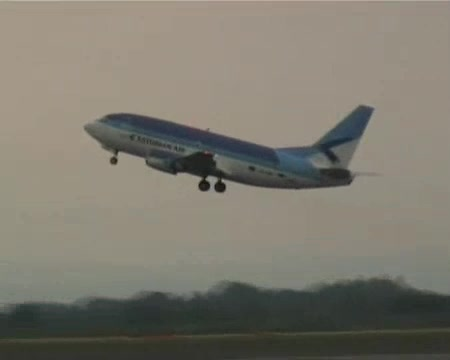aeroplane: (82, 103, 376, 193)
